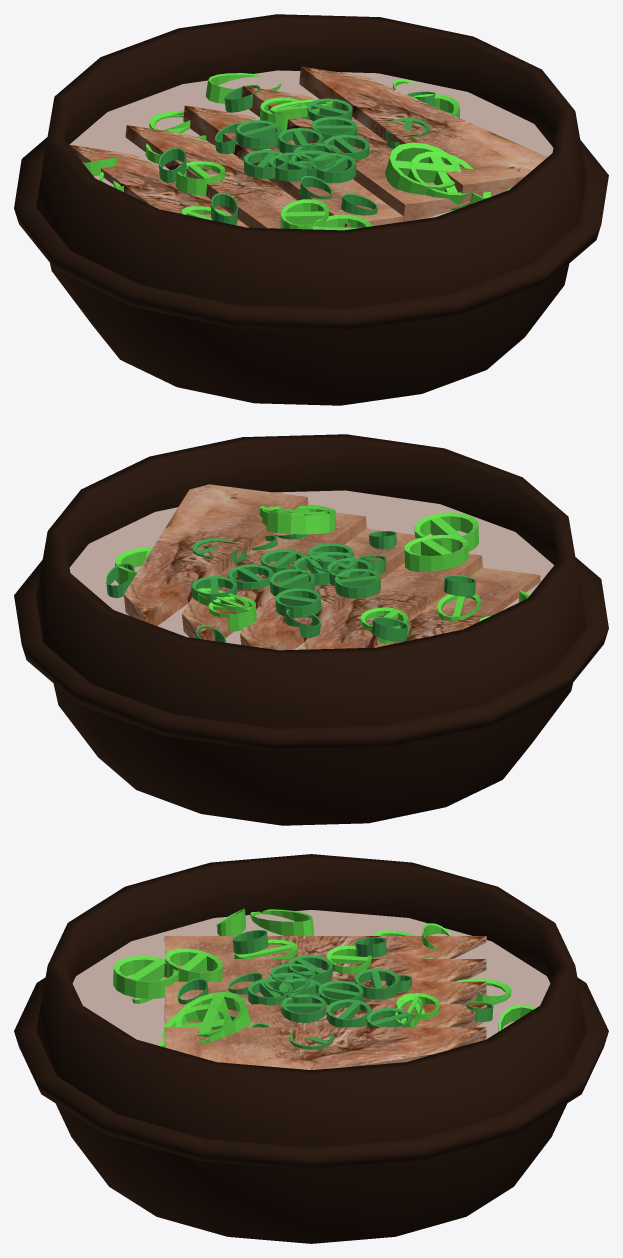
The model's file is Gukbap_Beef.glb.
3 views of the same model, one above another, from view 1: azimuth 30°, elevation 25°; view 2: azimuth 150°, elevation 25°; view 3: azimuth 270°, elevation 25° (orthographic).
Parts seen in each view (by area): view 1: Plate, Bite6, Bite1, Bite4, Bite2, Bite3, Bite5; view 2: Plate, Bite6, Bite1, Bite4, Bite3, Bite2, Bite5; view 3: Plate, Bite6, Bite1, Bite5, Bite4, Bite2, Bite3.
Part boxes in pixels (x1,y1,x2,y2): Plate: [14, 14, 608, 405]; Bite6: [83, 73, 510, 230]; Bite1: [299, 66, 547, 202]; Bite4: [125, 125, 296, 228]; Bite2: [241, 86, 506, 221]; Bite3: [183, 105, 458, 227]; Bite5: [68, 144, 248, 227]; Plate: [14, 434, 608, 825]; Bite6: [106, 504, 529, 648]; Bite1: [124, 484, 308, 625]; Bite4: [300, 554, 482, 649]; Bite3: [240, 528, 416, 650]; Bite2: [182, 512, 366, 640]; Bite5: [374, 567, 540, 647]; Plate: [14, 854, 608, 1243]; Bite6: [113, 908, 534, 1063]; Bite1: [164, 1027, 486, 1069]; Bite5: [164, 936, 486, 958]; Bite4: [165, 959, 486, 981]; Bite2: [164, 1004, 486, 1027]; Bite3: [164, 981, 486, 1004].
Size of the model in its own units: 2.03 by 0.6987 by 2.03.
5 materials, 1 textured.
